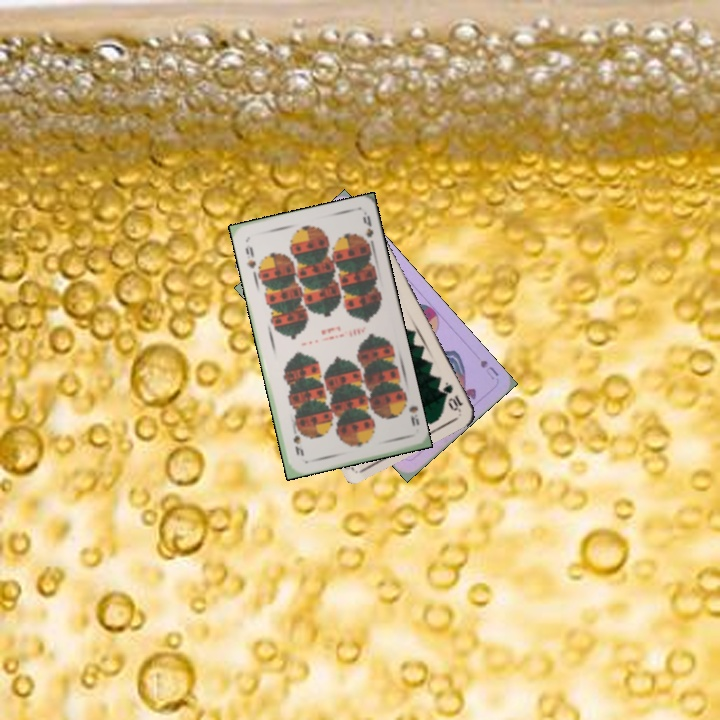G10: (439, 378, 466, 413)
S9: (398, 394, 422, 429), (241, 241, 258, 271)
SU: (476, 356, 501, 383)
